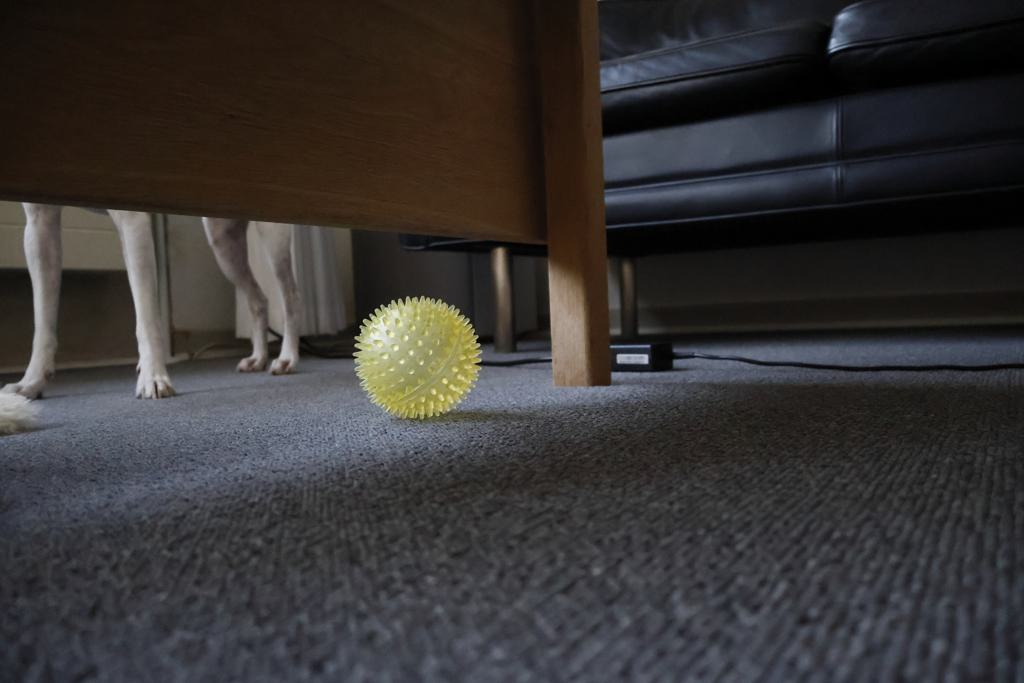Dog: (0, 198, 312, 407)
